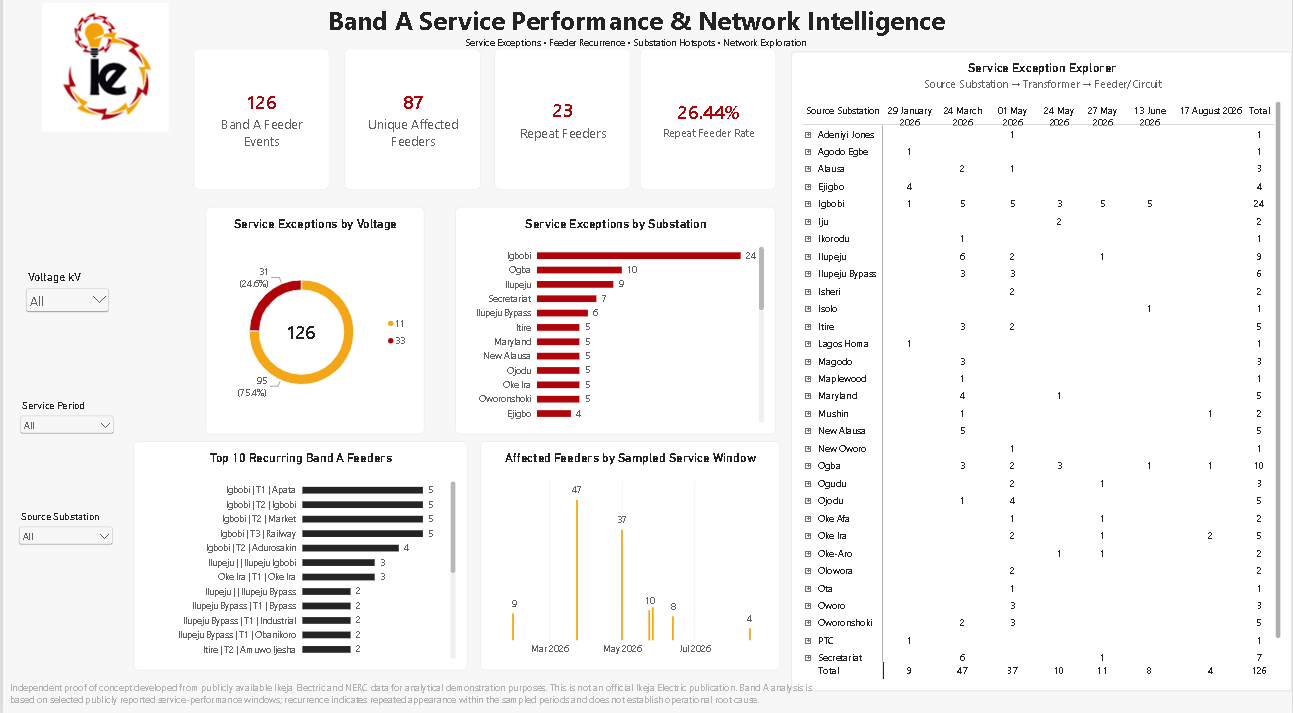

The dashboard page shown, as its layout file describes it:
{"tool":"powerbi","page":{"name":"Band A Service Intelligence","canvas":[1920,1080],"ordinal":1},"visuals":[{"type":"cardVisual","fields":{"Data":["Band A measures.Band A Feeder Events"]},"box":[283.2,88.7,203,210],"z":0},{"type":"cardVisual","fields":{"Data":["Band A measures.Unique Affected Feeders"]},"box":[508.5,88.7,203,210],"z":1000},{"type":"cardVisual","fields":{"Data":["Band A measures.Repeat Feeders"]},"box":[731.5,88.7,203,210],"z":2000},{"type":"cardVisual","fields":{"Data":["Band A measures.Repeat Feeder Rate"]},"box":[947.8,88.7,203.7,210.1],"z":3000},{"type":"clusteredBarChart","title":"Top 10 Recurring Band A Feeders","fields":{"Category":["FactBandAService.Feeder Display"],"Y":["Band A measures.Band A Feeder Events"]},"box":[194,674.1,497.3,341.2],"z":4000},{"type":"clusteredBarChart","title":"Service Exceptions by Substation","fields":{"Y":["Band A measures.Band A Feeder Events"],"Category":["FactBandAService.Source Substation"]},"box":[673.5,323.9,477.3,339],"z":5000},{"type":"donutChart","title":"Service Exceptions by Voltage","fields":{"Category":["FactBandAService.Voltage kV"],"Y":["Band A measures.Band A Feeder Events"]},"box":[301.1,323.9,325.6,339],"z":6000},{"type":"pivotTable","title":"Service Exception Explorer","fields":{"Rows":["FactBandAService.Source Substation","FactBandAService.Transformer","FactBandAService.Feeder/Circuit"],"Columns":["FactBandAService.Service Date From"],"Values":["Band A measures.Band A Feeder Events"]},"box":[1173,93,747,952],"z":7000},{"type":"slicer","fields":{"Values":["FactBandAService.Voltage kV"]},"box":[29,419.3,133.8,140.5],"z":8000},{"type":"slicer","fields":{"Values":["FactBandAService.Source Substation"]},"box":[17.8,776.8,150,150],"z":9000},{"type":"slicer","fields":{"Values":["FactBandAService.Service Period"]},"box":[20.1,611.1,149.4,93.7],"z":10000},{"type":"clusteredColumnChart","title":"Affected Feeders by Sampled Service Window","fields":{"Category":["FactBandAService.Service Date From"],"Y":["Band A measures.Band A Feeder Events"]},"box":[711.4,674.1,446,341.2],"z":11000},{"type":"textbox","box":[93.7,20.1,1699.4,69.1],"z":12000},{"type":"image","box":[58,20.1,189,192],"z":13000},{"type":"textbox","box":[11.2,1030.4,1199.9,49.1],"z":14000}]}

Visuals, with their boxes in screenshot pixels (x1, y1, x2, y2), scaled from the page's 1920x1080 canvas onto the 1293x713 screenshot:
cardVisual - Band A measures.Band A Feeder Events: bbox=(191, 59, 327, 197)
cardVisual - Band A measures.Unique Affected Feeders: bbox=(342, 59, 479, 197)
cardVisual - Band A measures.Repeat Feeders: bbox=(493, 59, 629, 197)
cardVisual - Band A measures.Repeat Feeder Rate: bbox=(638, 59, 775, 197)
"Top 10 Recurring Band A Feeders" clusteredBarChart: bbox=(131, 445, 466, 670)
"Service Exceptions by Substation" clusteredBarChart: bbox=(454, 214, 775, 438)
"Service Exceptions by Voltage" donutChart: bbox=(203, 214, 422, 438)
"Service Exception Explorer" pivotTable: bbox=(790, 61, 1292, 690)
slicer - FactBandAService.Voltage kV: bbox=(20, 277, 110, 370)
slicer - FactBandAService.Source Substation: bbox=(12, 513, 113, 612)
slicer - FactBandAService.Service Period: bbox=(14, 403, 114, 465)
"Affected Feeders by Sampled Service Window" clusteredColumnChart: bbox=(479, 445, 779, 670)
textbox: bbox=(63, 13, 1208, 59)
image: bbox=(39, 13, 166, 140)
textbox: bbox=(8, 680, 816, 712)
